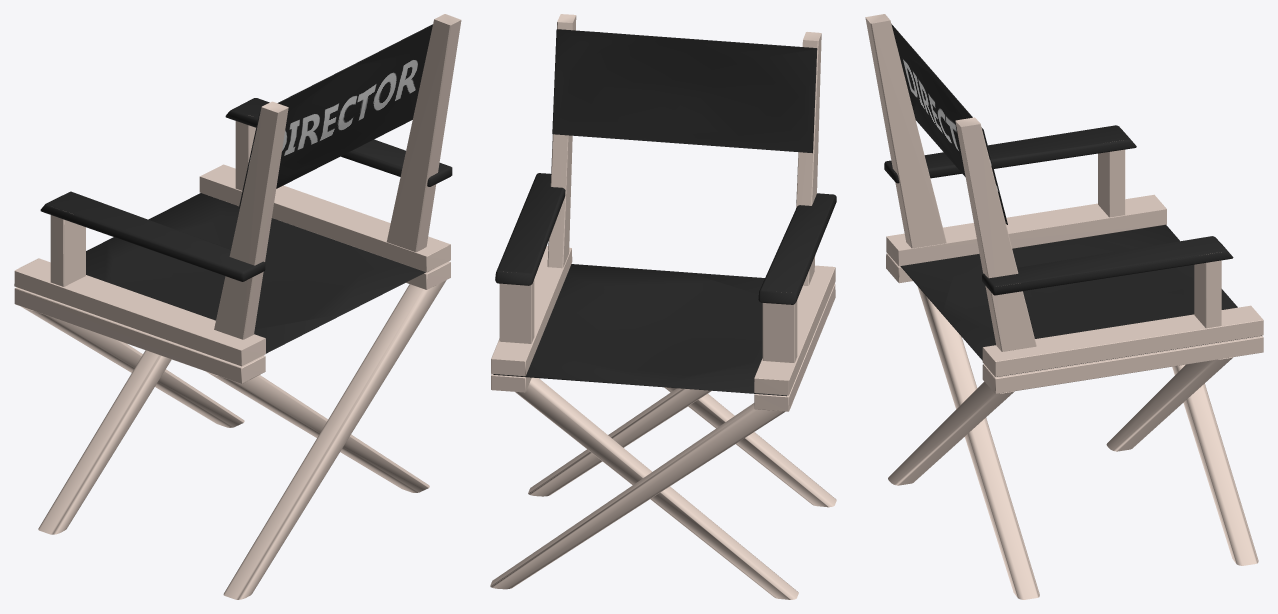
File: piece1.glb
3 renders of one model, left to right at view 1: azimuth 30°, elevation 25°; view 2: azimuth 150°, elevation 25°; view 3: azimuth 270°, elevation 25°, orthographic. The views are drawn at different scales.
Visible parts, largest first — view 1: Object_2.001; view 2: Object_2.001; view 3: Object_2.001.
Part boxes in pixels (<box>): Object_2.001: <box>14,14,461,599</box>; Object_2.001: <box>490,14,836,599</box>; Object_2.001: <box>865,14,1263,599</box>.
Bounding box in the file's own units: 0.3437 × 0.4521 × 0.345.
Materials: 3 (1 with a texture image).
